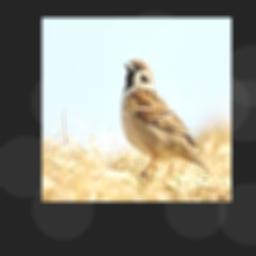Sparrow: (121, 59, 212, 178)
